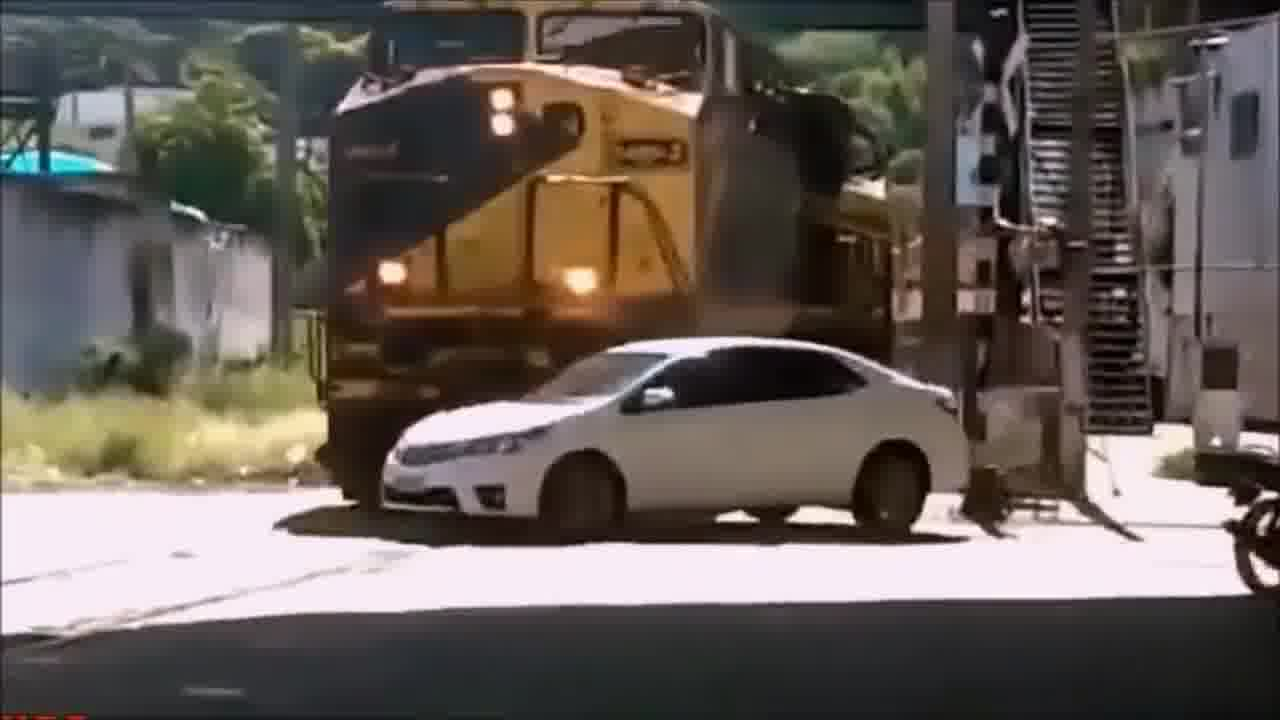crossing railway track: (373, 328, 1006, 565)
